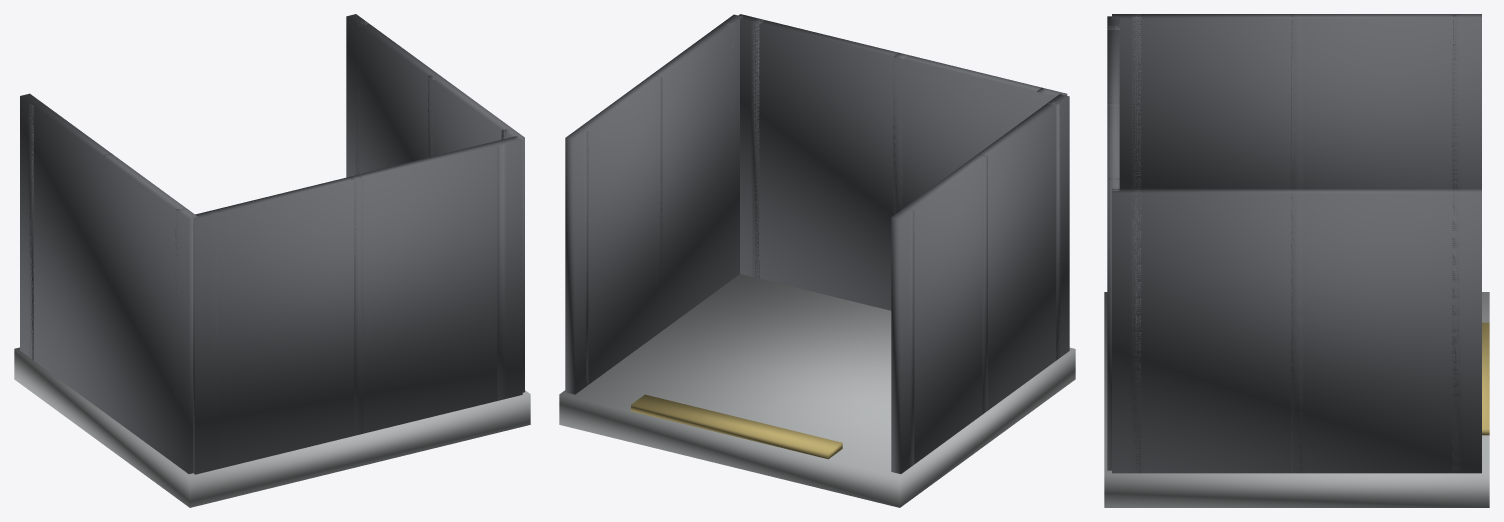
Rendered from landing_motel_w140_d125_door.glb.
3 views of the same model, side by side, from view 1: azimuth 30°, elevation 25°; view 2: azimuth 150°, elevation 25°; view 3: azimuth 270°, elevation 25° (orthographic). The views are drawn at different scales.
Visible parts, largest first — view 1: world; view 2: world; view 3: world.
Boxes of the visible parts, box(x1,y1,x2,y2) form: world: box(14, 14, 530, 507); world: box(559, 14, 1075, 507); world: box(1104, 14, 1489, 507).
Size of the model in its own units: 1.4 by 1.12 by 1.25.
